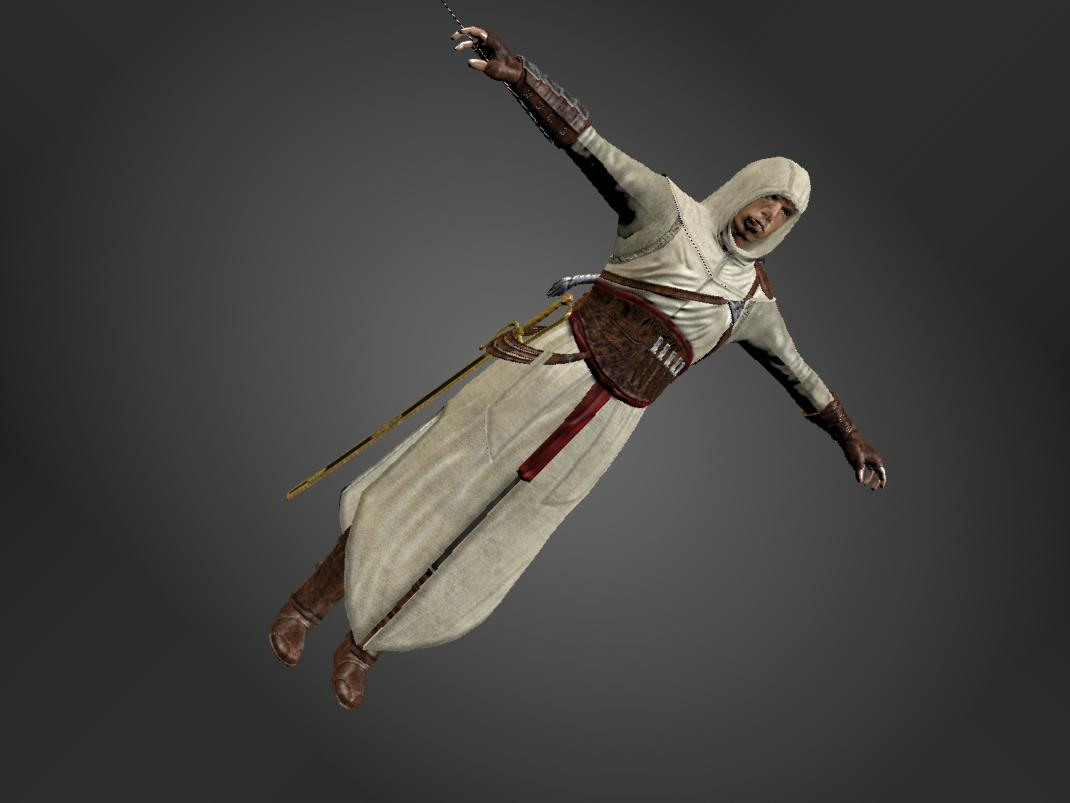clip: (529, 343, 558, 370)
